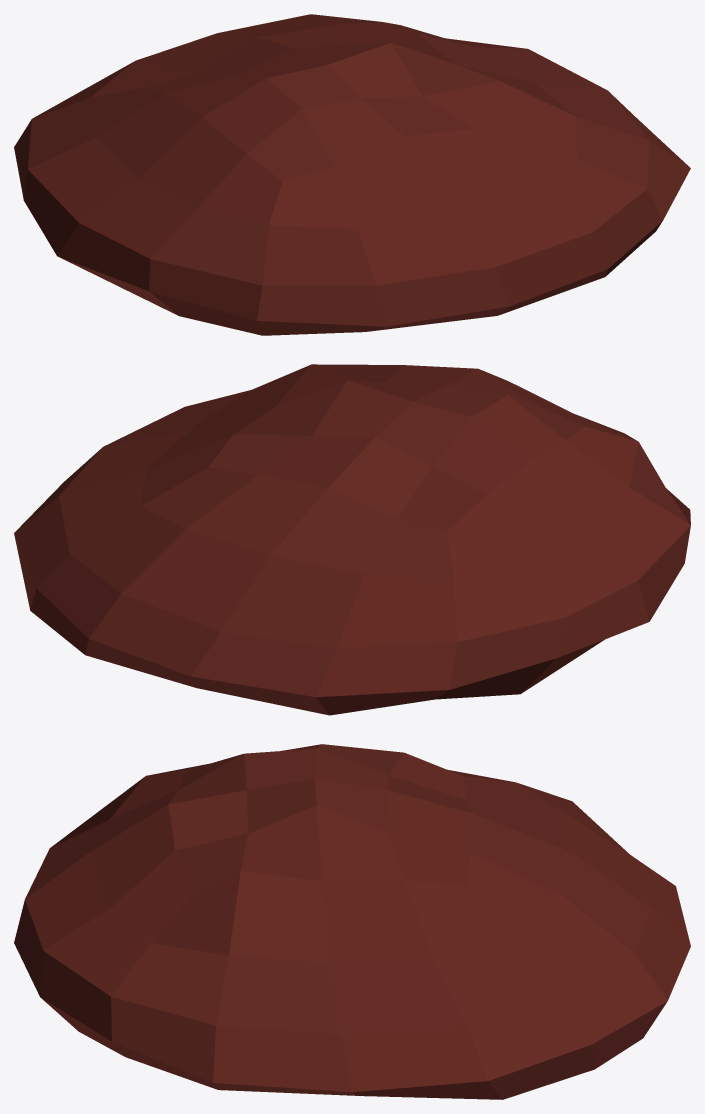
Rendered from dirt_mound.fbx.
3 renders of one model, top to bottom at view 1: azimuth 30°, elevation 25°; view 2: azimuth 150°, elevation 25°; view 3: azimuth 270°, elevation 25°, orthographic. The views are drawn at different scales.
Visible parts, largest first — view 1: Cube; view 2: Cube; view 3: Cube.
Part boxes in pixels (<box>): Cube: <box>14,14,690,335</box>; Cube: <box>14,364,690,715</box>; Cube: <box>14,744,690,1099</box>.
Size of the model in its own units: 762 by 269 by 753.
